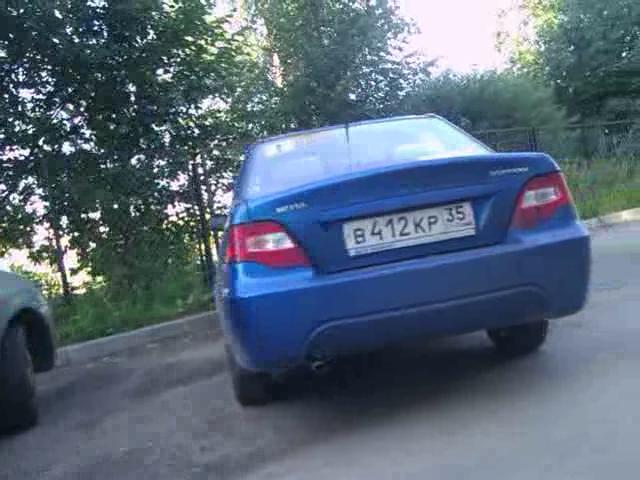car license plate: (340, 198, 476, 259)
